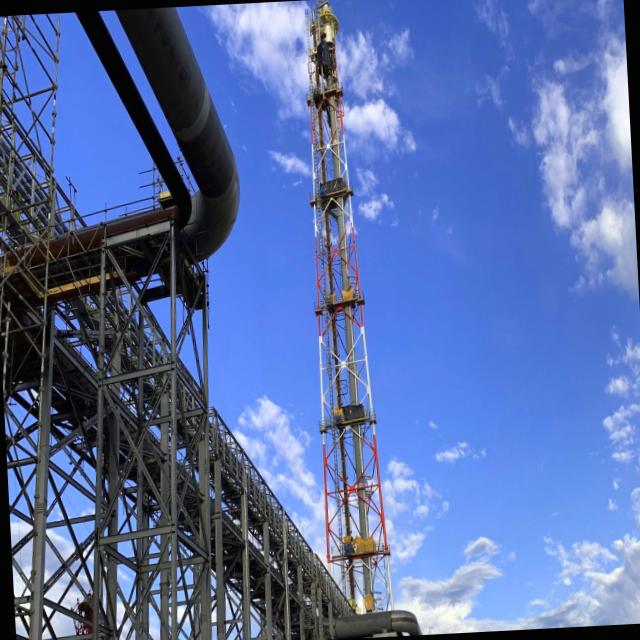gas: (113, 7, 242, 268), (337, 612, 424, 638)
